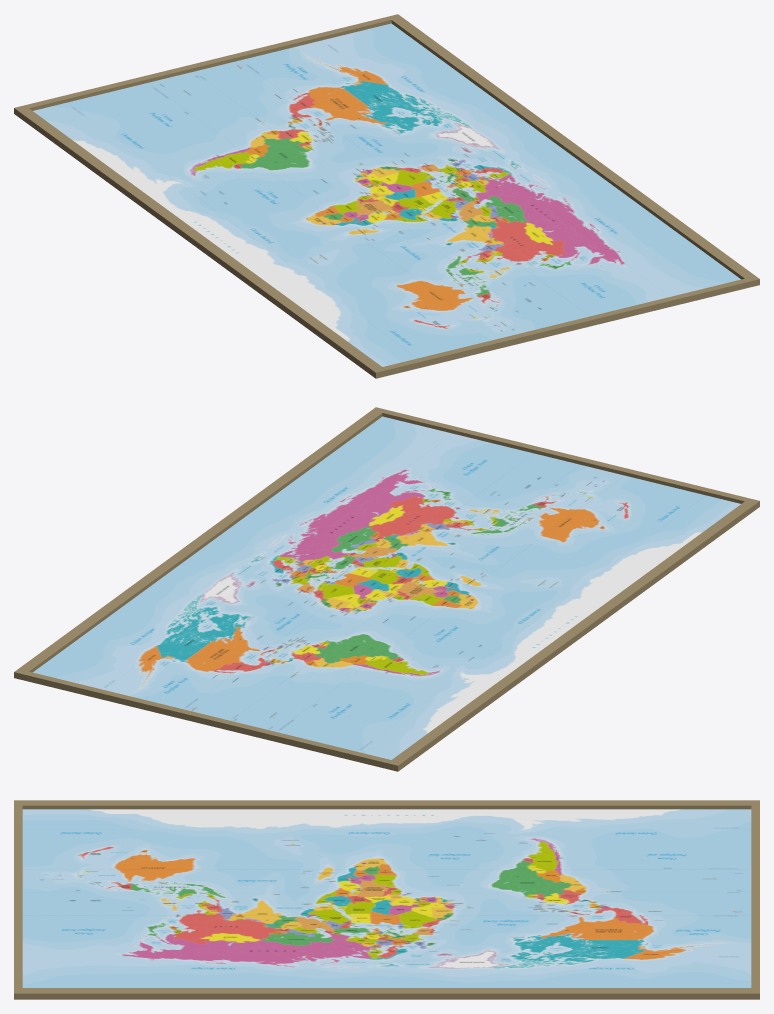
Rendered from new_new_cadre.fbx.
3 renders of one model, top to bottom at view 1: azimuth 30°, elevation 25°; view 2: azimuth 150°, elevation 25°; view 3: azimuth 270°, elevation 25°, orthographic. The views are drawn at different scales.
Parts seen in each view (by area): view 1: nouveau_cadre; view 2: nouveau_cadre; view 3: nouveau_cadre.
Part boxes in pixels (<box>): nouveau_cadre: <box>14,14,759,378</box>; nouveau_cadre: <box>14,407,759,771</box>; nouveau_cadre: <box>14,800,759,999</box>.
Bounding box in the file's own units: 284 × 4.22 × 463.
